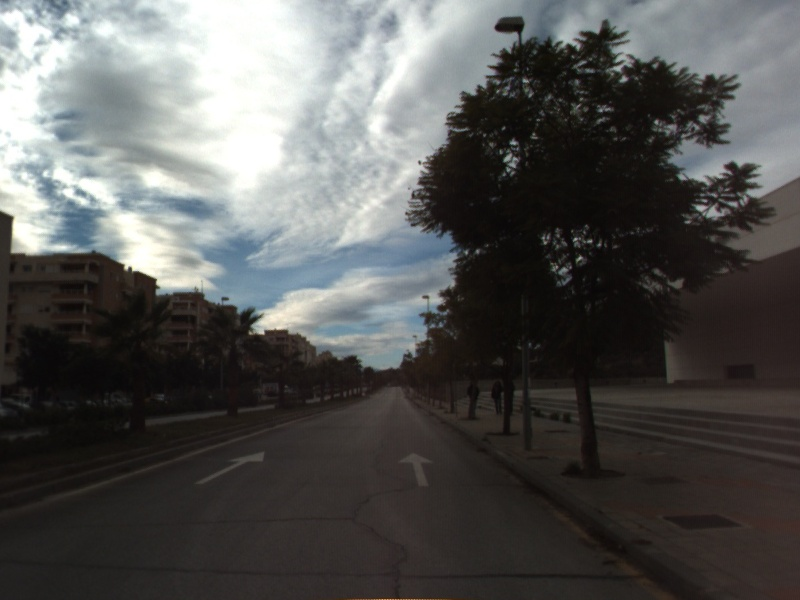STRAIGHT: (192, 450, 266, 486), (396, 450, 435, 488)
